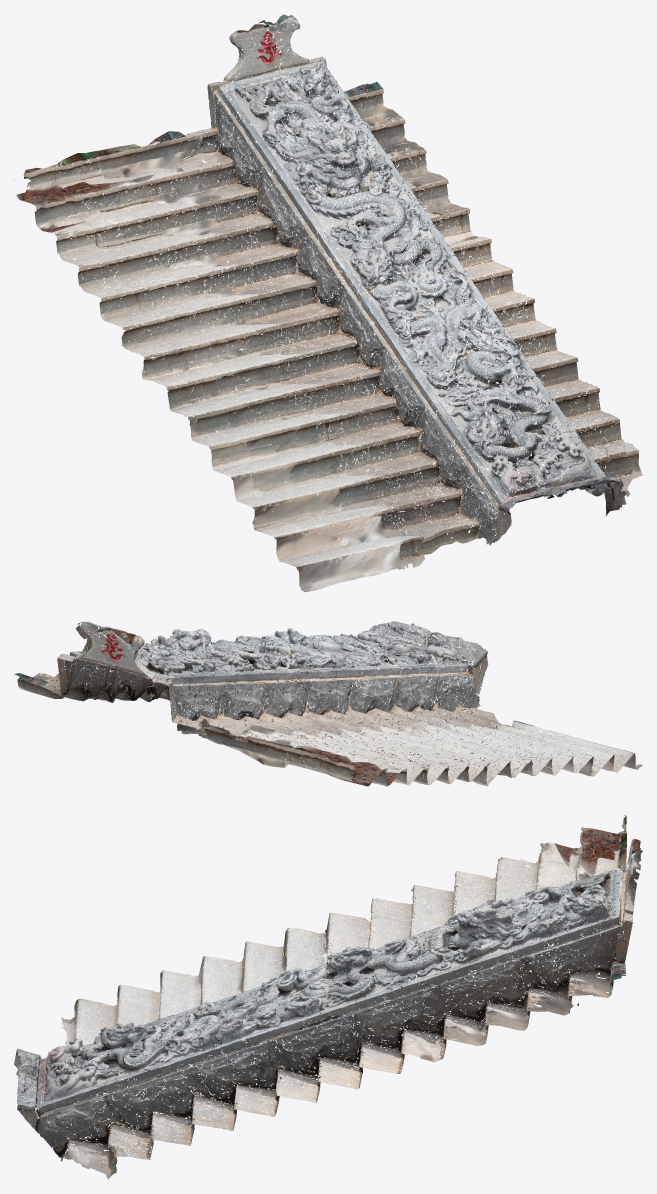
File: stairs.glb
3 renders of one model, top to bottom at view 1: azimuth 30°, elevation 25°; view 2: azimuth 150°, elevation 25°; view 3: azimuth 270°, elevation 25°, orthographic. The views are drawn at different scales.
Parts seen in each view (by area): view 1: Object_3, Object_11, Object_6, Object_12, Object_7, Object_2, Object_10, Object_14, Object_5, Object_4, Object_8, Object_15 (+4 smaller); view 2: Object_11, Object_10, Object_7, Object_3, Object_15, Object_6, Object_2, Object_14, Object_12, Object_4, Object_8, Object_13 (+4 smaller); view 3: Object_13, Object_4, Object_5, Object_2, Object_10, Object_12, Object_15, Object_7, Object_9, Object_6, Object_16, Object_8 (+4 smaller).
Part boxes in pixels (bbox=[...]): Object_3: bbox=[50, 152, 374, 408]; Object_11: bbox=[43, 131, 372, 376]; Object_6: bbox=[207, 328, 600, 534]; Object_12: bbox=[169, 183, 531, 445]; Object_7: bbox=[58, 24, 471, 564]; Object_2: bbox=[52, 14, 421, 269]; Object_10: bbox=[90, 25, 444, 318]; Object_14: bbox=[207, 20, 623, 572]; Object_5: bbox=[426, 298, 635, 545]; Object_4: bbox=[180, 189, 533, 401]; Object_8: bbox=[127, 186, 636, 589]; Object_15: bbox=[14, 61, 579, 538]; Object_11: bbox=[182, 649, 469, 785]; Object_10: bbox=[18, 626, 434, 782]; Object_7: bbox=[23, 628, 627, 784]; Object_3: bbox=[198, 653, 511, 786]; Object_15: bbox=[14, 628, 488, 786]; Object_6: bbox=[318, 649, 606, 776]; Object_2: bbox=[58, 621, 425, 785]; Object_14: bbox=[61, 622, 570, 743]; Object_12: bbox=[102, 628, 549, 777]; Object_4: bbox=[121, 628, 499, 770]; Object_8: bbox=[214, 621, 636, 779]; Object_13: bbox=[224, 623, 475, 712]; Object_13: bbox=[17, 1002, 320, 1155]; Object_4: bbox=[194, 929, 483, 1089]; Object_5: bbox=[17, 995, 330, 1175]; Object_2: bbox=[408, 841, 641, 993]; Object_10: bbox=[417, 838, 636, 1038]; Object_12: bbox=[193, 928, 487, 1087]; Object_15: bbox=[14, 815, 628, 1130]; Object_7: bbox=[72, 845, 640, 1087]; Object_9: bbox=[90, 916, 488, 1130]; Object_6: bbox=[51, 941, 279, 1131]; Object_16: bbox=[16, 942, 420, 1179]; Object_8: bbox=[16, 890, 451, 1172].
Size of the model in its own units: 3.97 by 3.1 by 6.03.
Materials: 2 (2 with a texture image).
